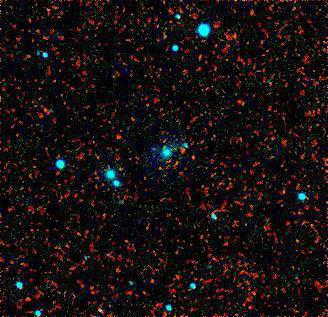star: (179, 139, 209, 169)
